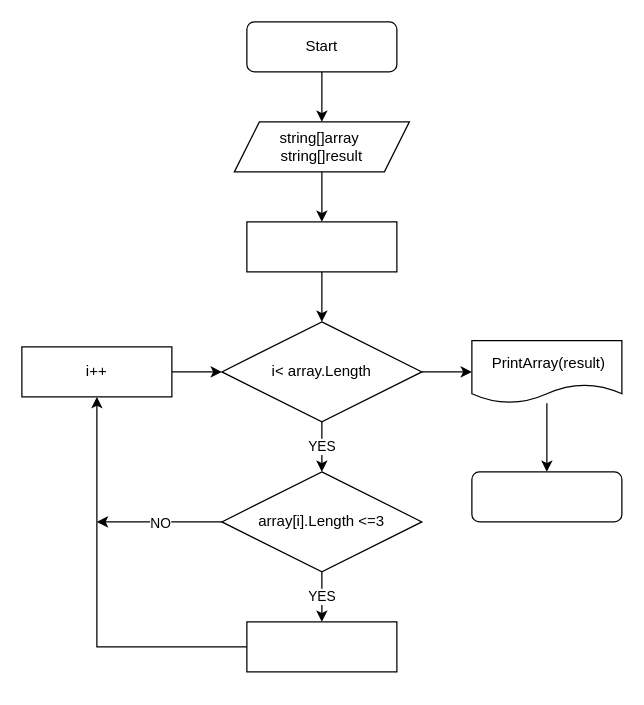
This 644x705 diagram has some shape labels left out. Each missing label, with the box of its shape:
end: (471, 471, 622, 522)
int i = 0 int count = 0: (246, 221, 397, 272)
result[count] = array[i] count++: (246, 621, 397, 672)
